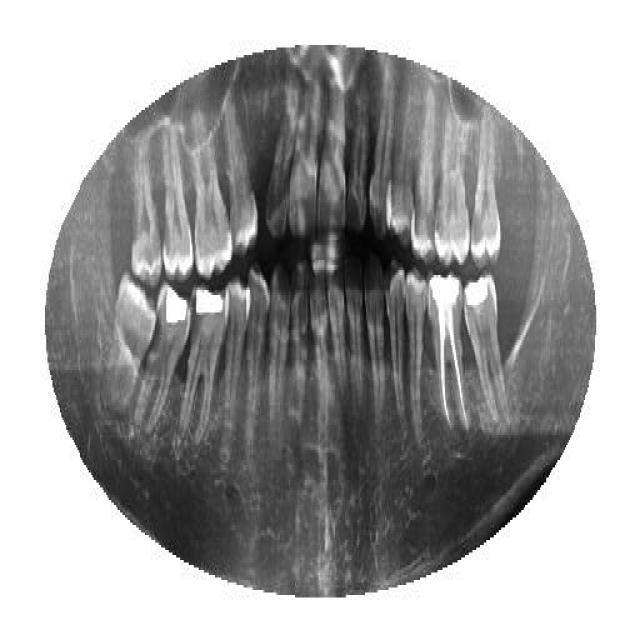Fillings: (135, 280, 190, 428), (182, 282, 232, 432), (464, 270, 506, 422)
Implant: (428, 268, 468, 428)
